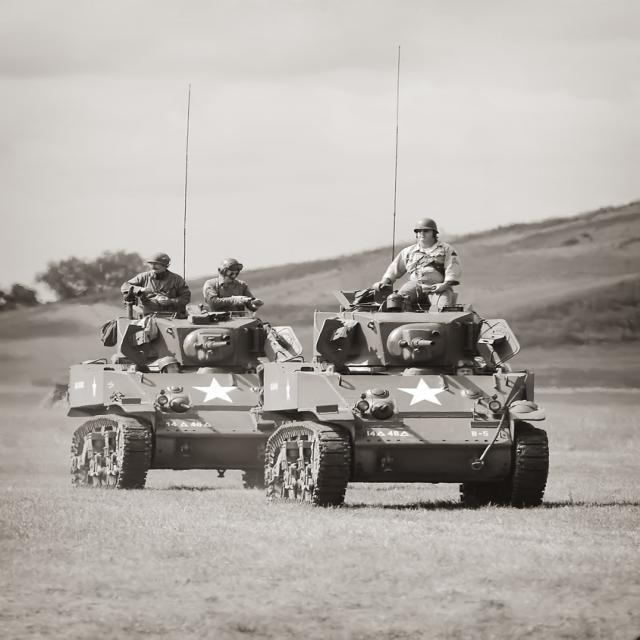tank: (246, 46, 550, 504), (64, 83, 306, 486)
